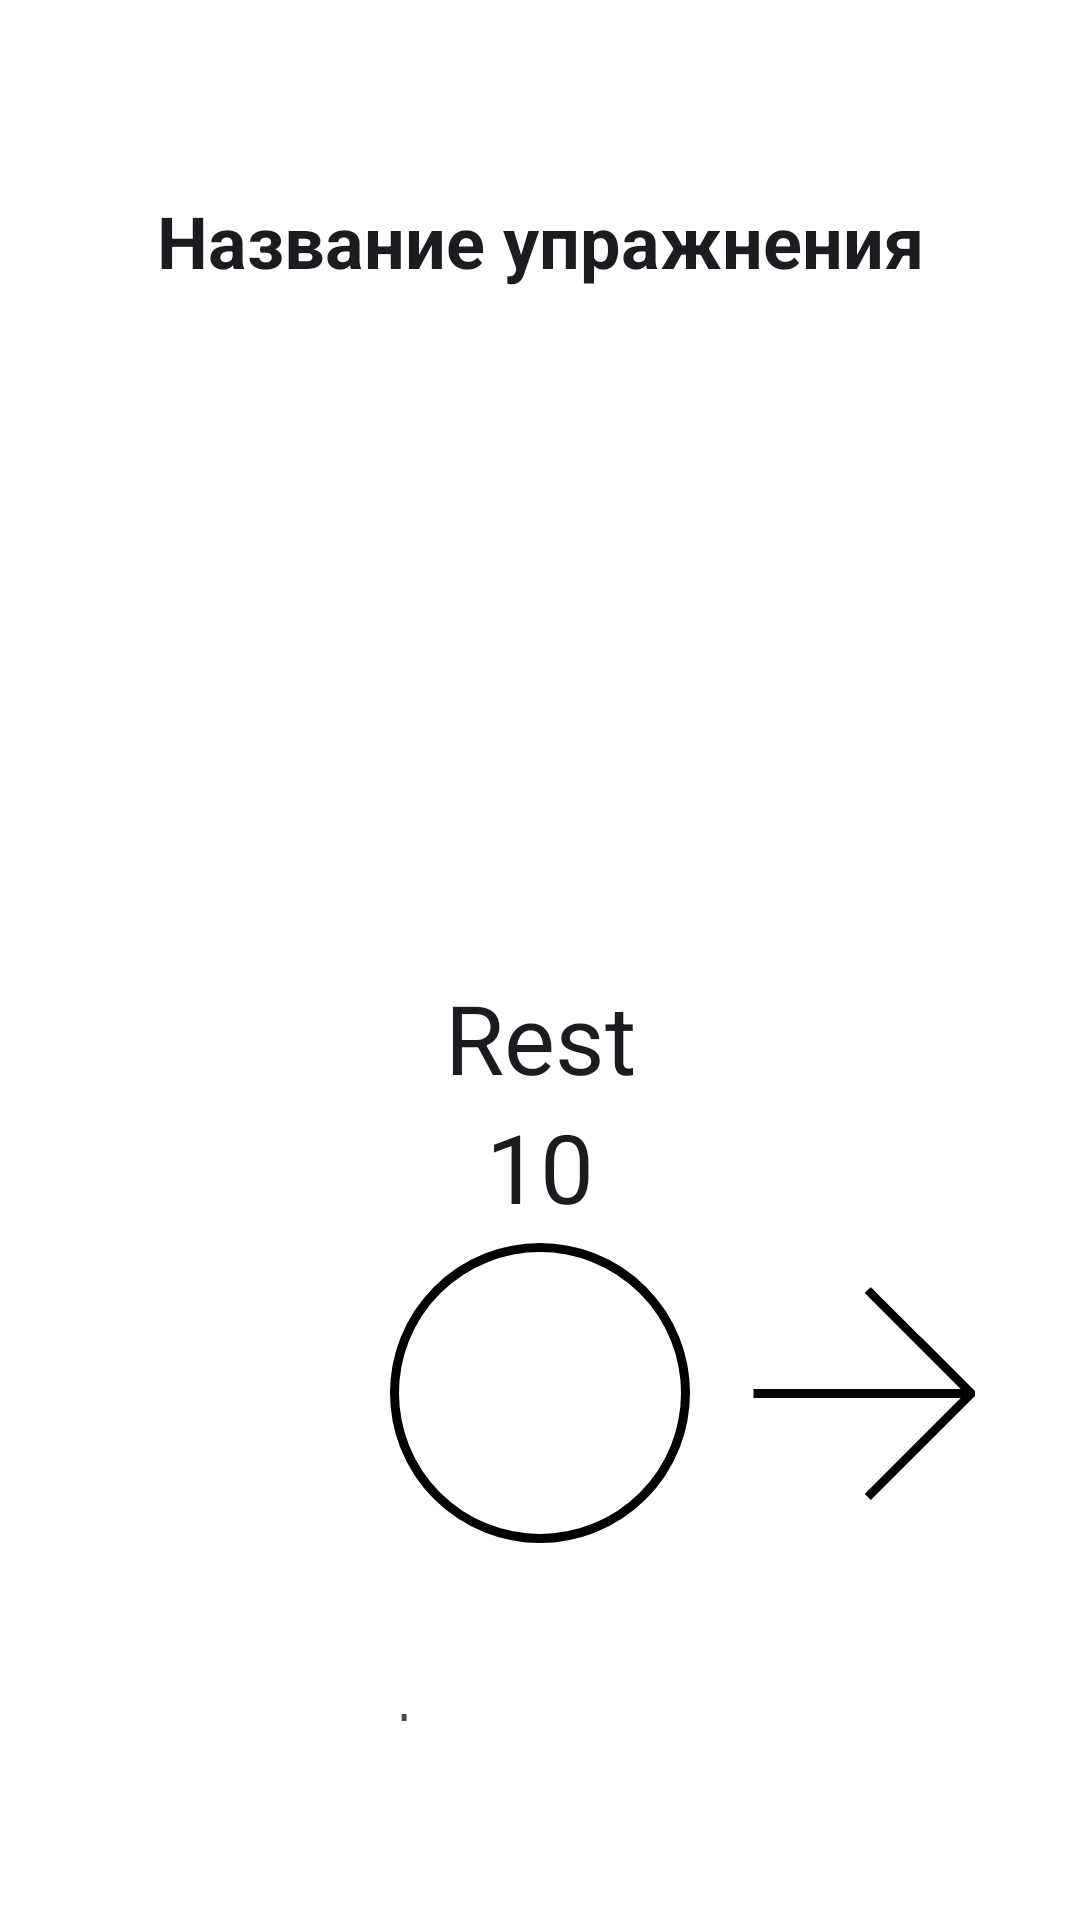

Icons on this 1080px×1920px Android screen, each with the point to tap as point (x, y):
skip rest: point (864, 1393)
